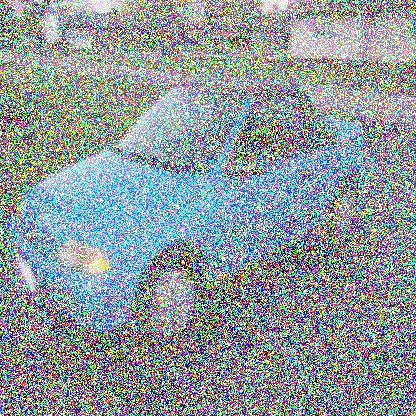Vehicle: (9, 79, 366, 345)
